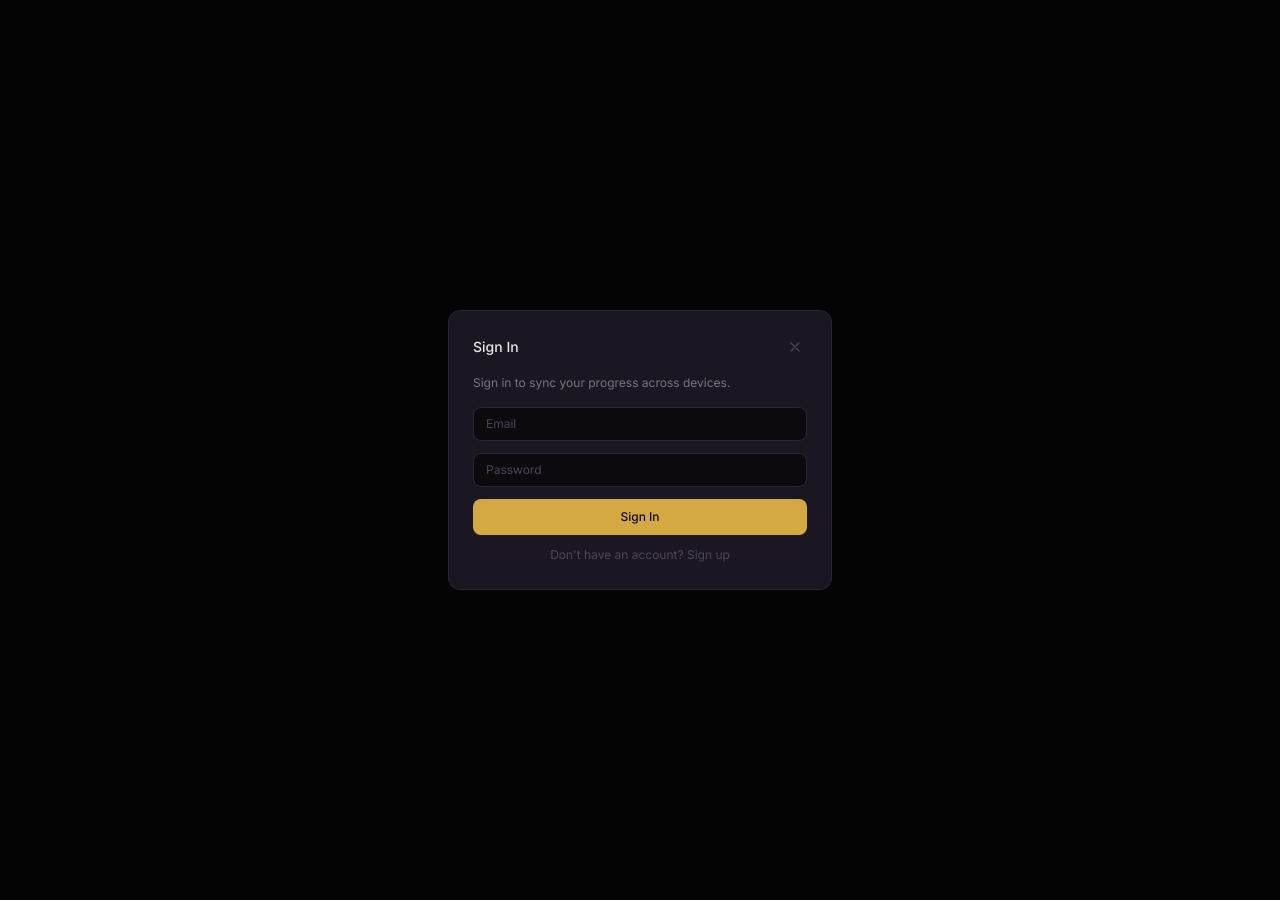
AuthModal — sign in / sign up form › toggles back to sign in mode
What coordinates should you click on to do the following:
click the button "Don't have an account? Sign up"
I would click on:
 (640, 555)
Its box is [473,547,807,563].
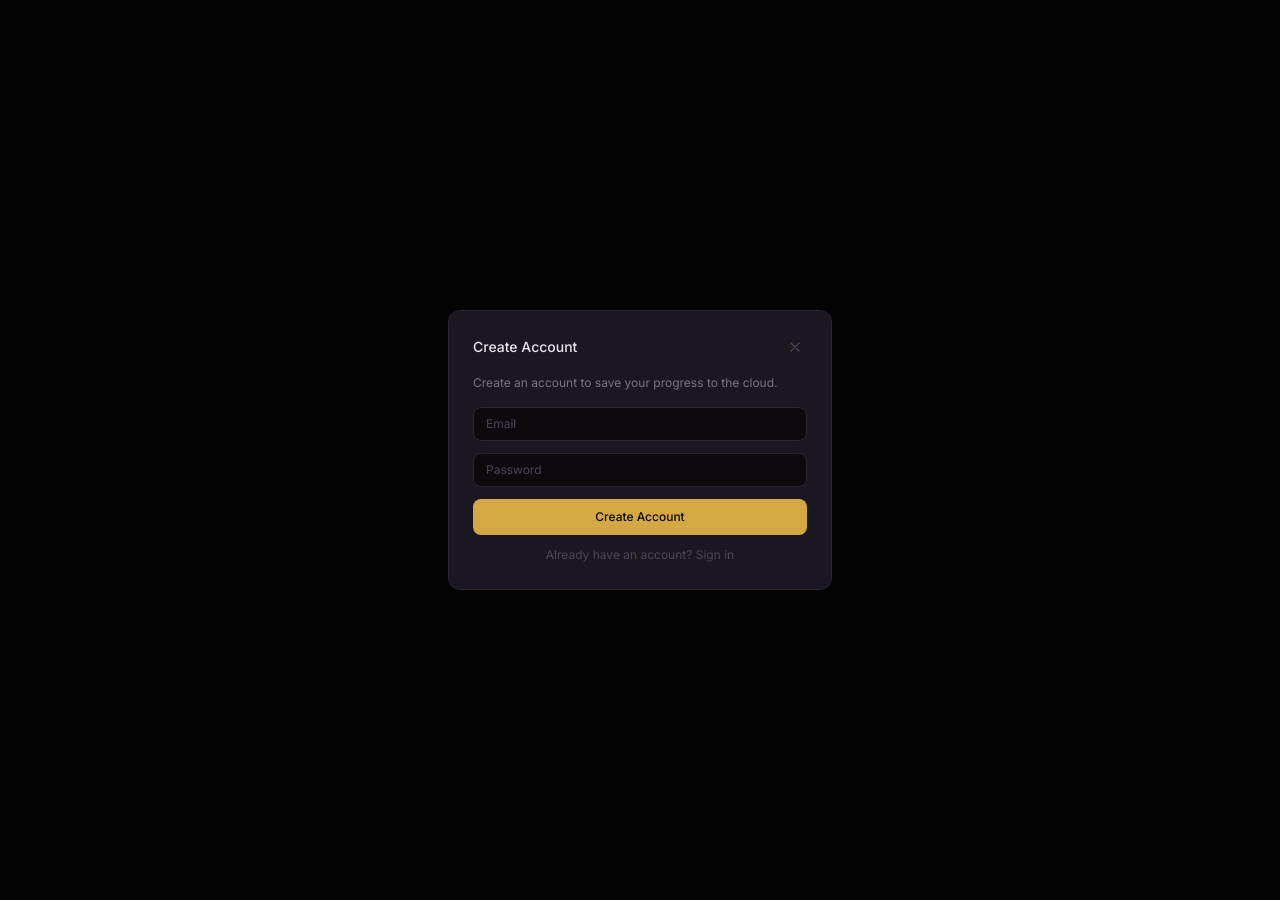
What coordinates should you click on to do the following:
click the button "Already have an account? Sign in"
I would click on:
 (640, 555)
Its box is [473,547,807,563].
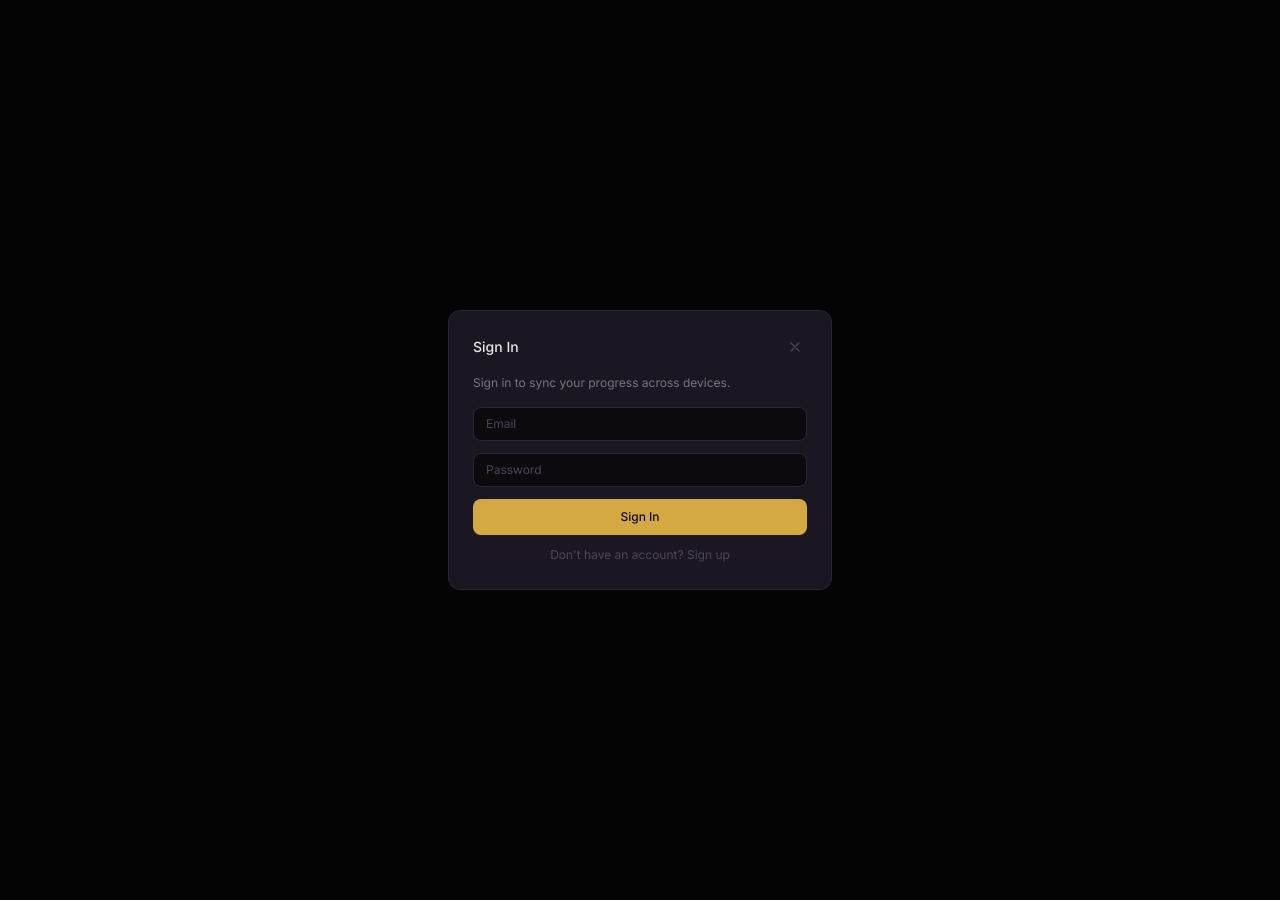
Expected: the heading reads "Sign In", [473,338,519,355]
